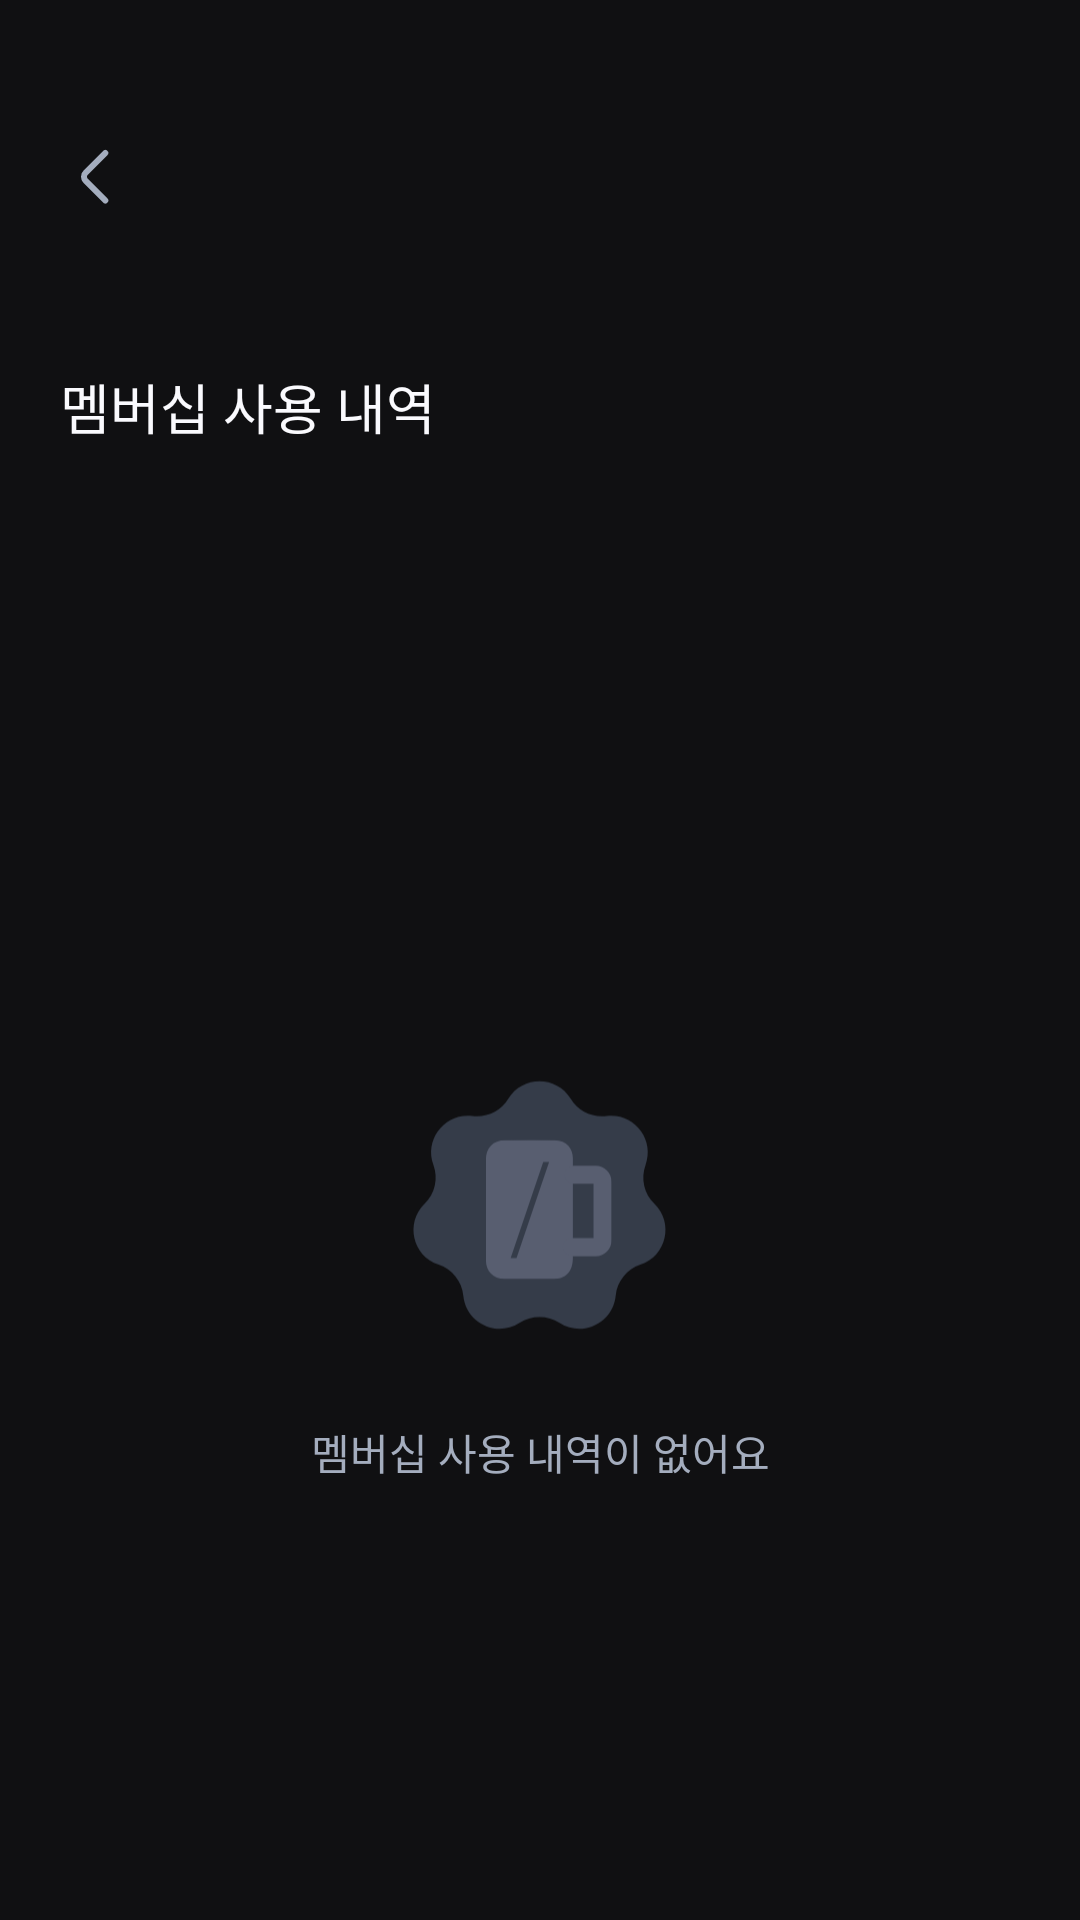

Icon bounding boxes for this 1080*1920 phone screenshot, format {"x1": x1, "y1": y1, "x2": x2, "y2": y2}:
arrow left: {"x1": 81, "y1": 150, "x2": 109, "y2": 204}
badge empty: {"x1": 413, "y1": 1081, "x2": 665, "y2": 1329}
